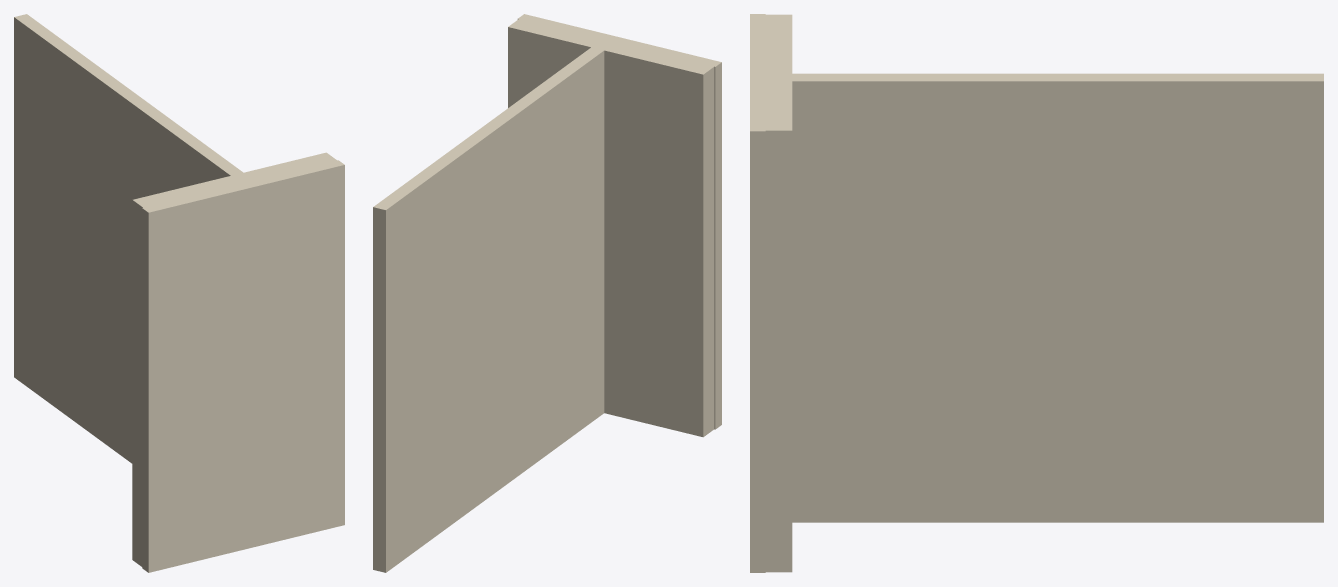
3 views of the same model, side by side, from view 1: azimuth 30°, elevation 25°; view 2: azimuth 150°, elevation 25°; view 3: azimuth 270°, elevation 25° (orthographic). The views are drawn at different scales.
Parts seen in each view (by area): view 1: B-FF-WALL-013; view 2: B-FF-WALL-013; view 3: B-FF-WALL-013.
Part boxes in pixels (x1,y1,x2,y2): B-FF-WALL-013: (14, 14, 344, 572); B-FF-WALL-013: (373, 14, 721, 572); B-FF-WALL-013: (750, 14, 1323, 572).
Size of the model in its own units: 1.38 by 2.42 by 2.85.
